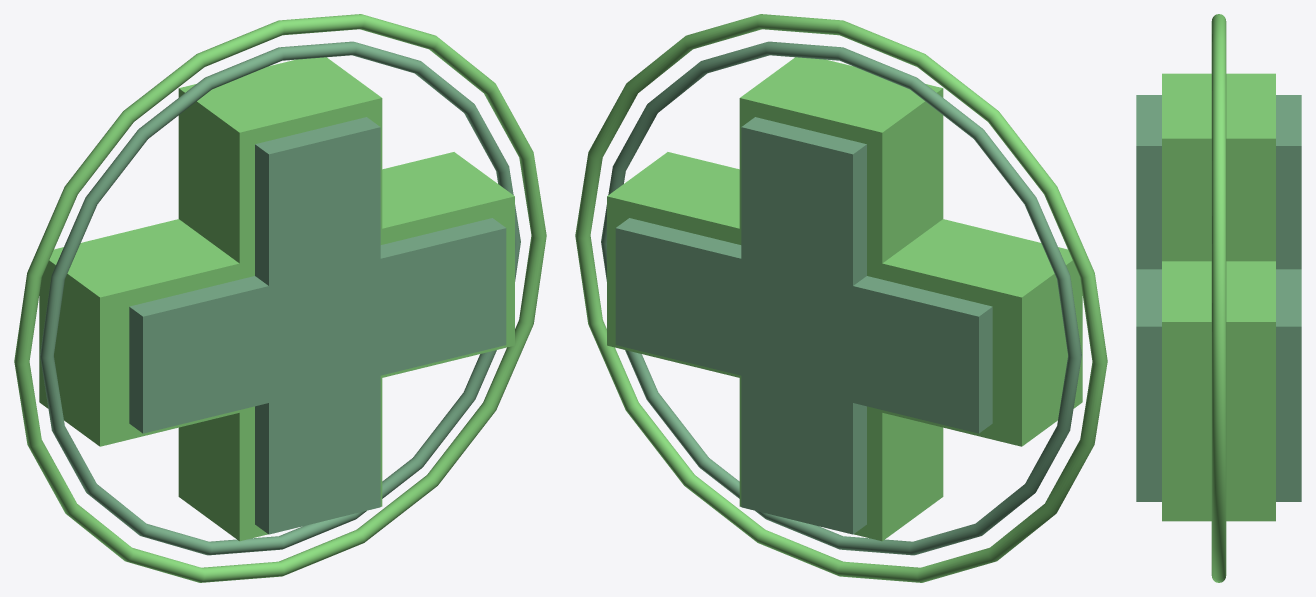
Rendered from Health Pickup.fbx.
3 renders of one model, left to right at view 1: azimuth 30°, elevation 25°; view 2: azimuth 150°, elevation 25°; view 3: azimuth 270°, elevation 25°, orthographic. The views are drawn at different scales.
Visible parts, largest first — view 1: pCube4, pCube3, pTorus2, pTorus1; view 2: pCube4, pCube3, pTorus2, pTorus1; view 3: pCube3, pCube4, pTorus2.
Part boxes in pixels (bbox=[...]): pCube4: bbox=[129, 117, 506, 534]; pCube3: bbox=[39, 57, 514, 541]; pTorus2: bbox=[14, 14, 546, 582]; pTorus1: bbox=[40, 41, 520, 555]; pCube4: bbox=[615, 117, 992, 534]; pCube3: bbox=[607, 57, 1082, 541]; pTorus2: bbox=[575, 14, 1107, 582]; pTorus1: bbox=[601, 41, 1081, 555]; pCube3: bbox=[1162, 73, 1275, 521]; pCube4: bbox=[1136, 95, 1301, 501]; pTorus2: bbox=[1211, 14, 1226, 582].
Bounding box in the file's own units: 5.04 × 5.04 × 1.46.
